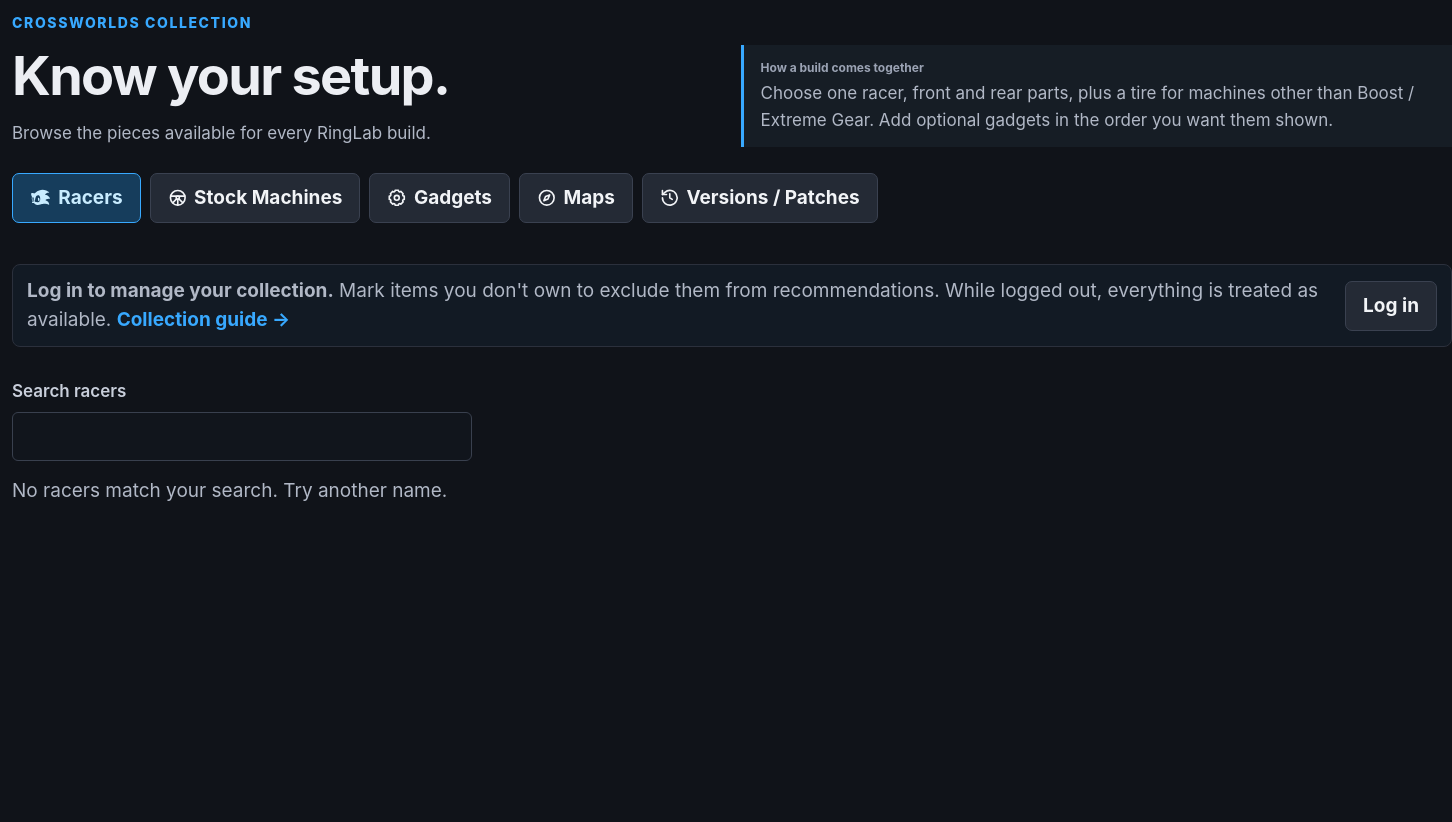
Test case: does not claim scenario support when the scenario catalog is unavailable
The width and height of the screenshot is (1452, 822).
Click the button "Gadgets": (440, 198) [369,173,510,224]
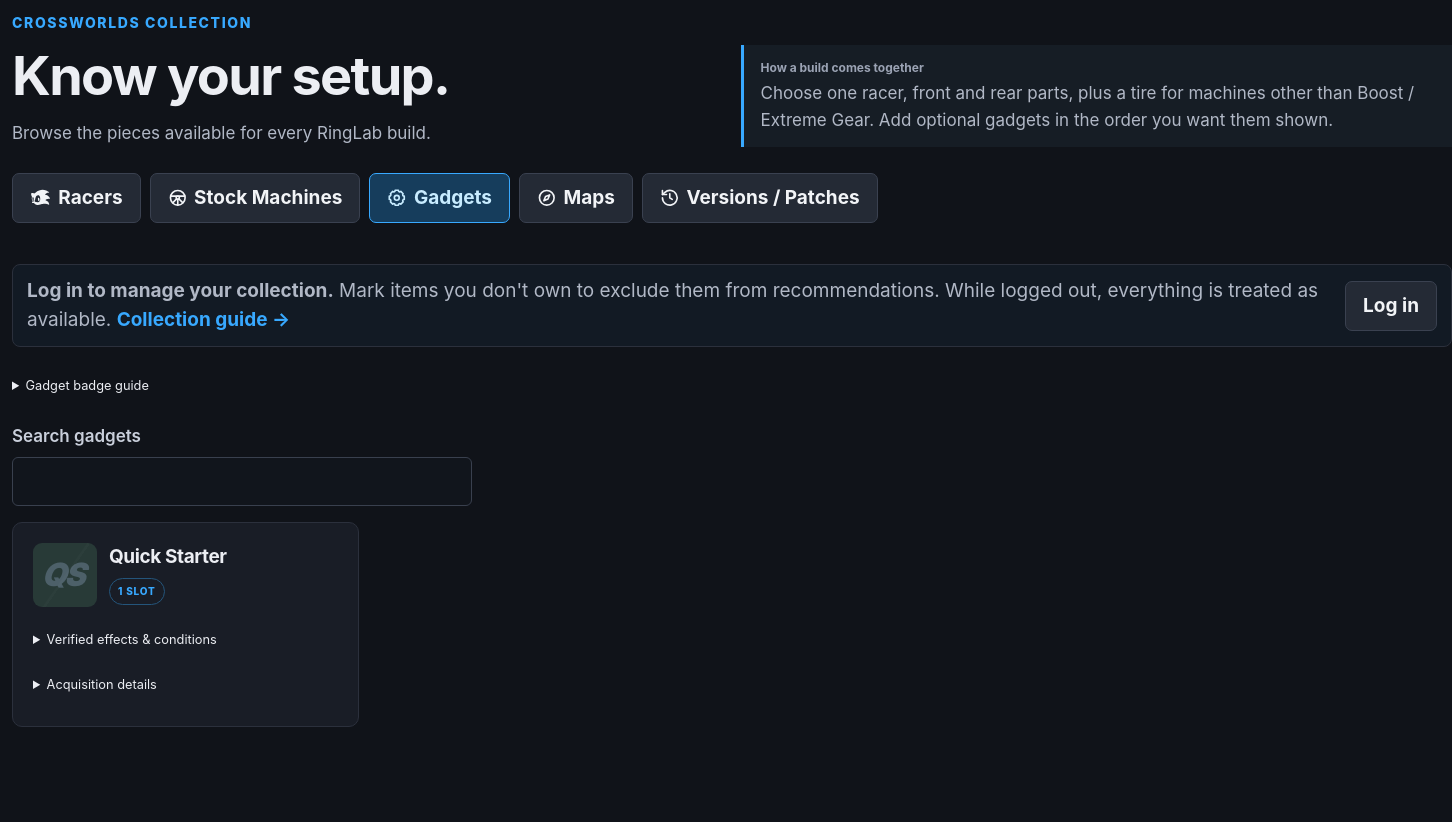
Result: the heading "Quick Starter" is shown at [109,545,227,568]
